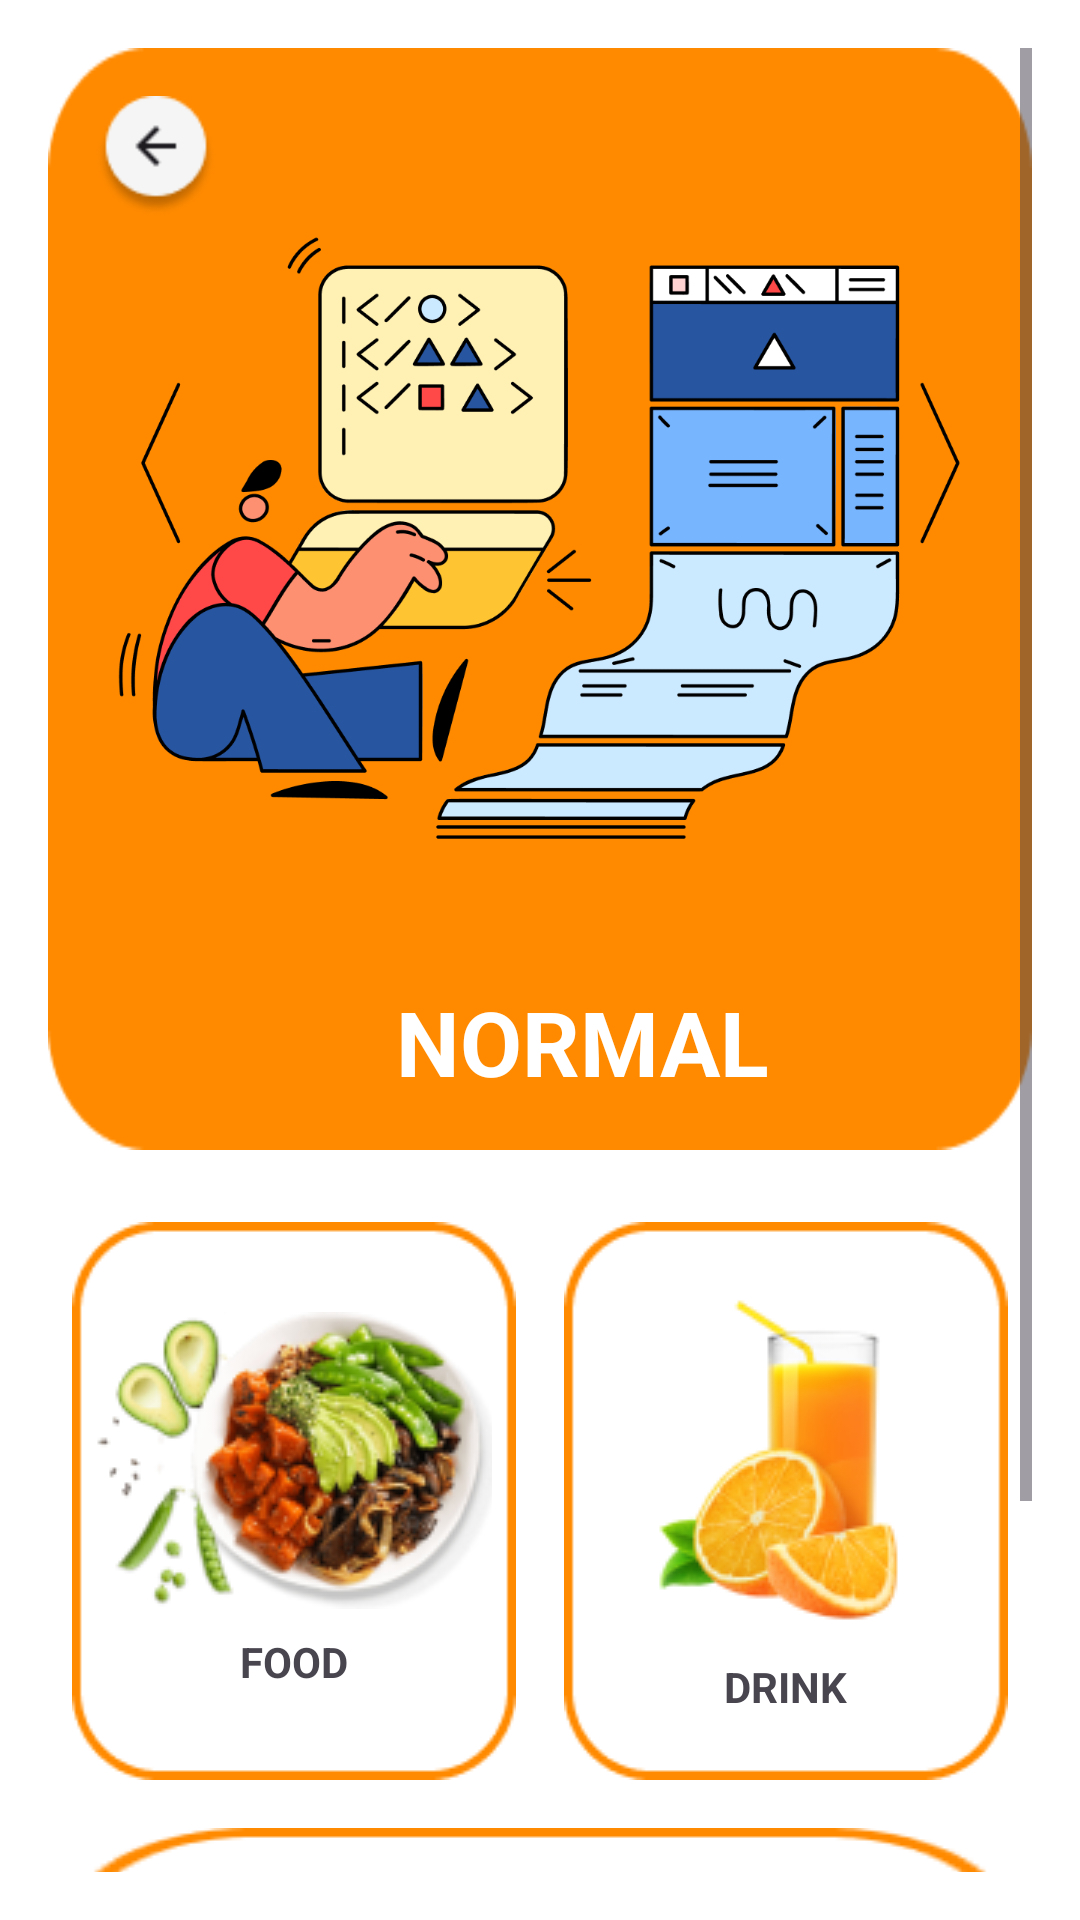

Point at icon controls on the screen. Image size 1080x1920, points as point (x, y).
Back: point (156, 151)
